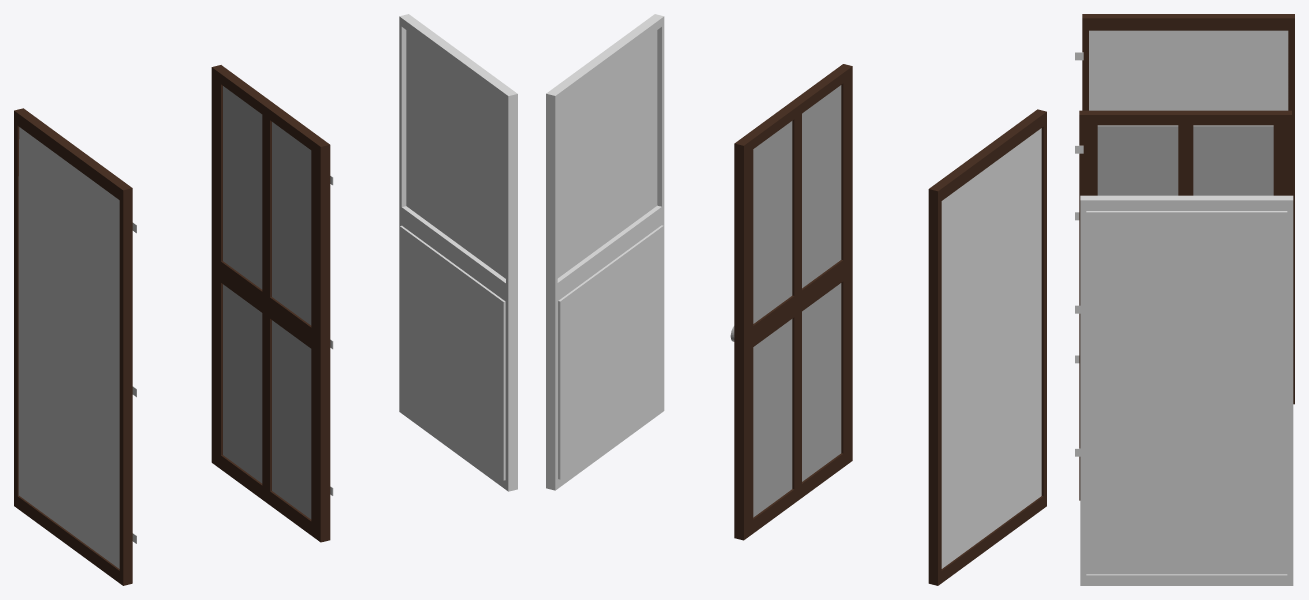
Rendered from doors.fbx.
3 renders of one model, left to right at view 1: azimuth 30°, elevation 25°; view 2: azimuth 150°, elevation 25°; view 3: azimuth 270°, elevation 25°, orthographic. The views are drawn at different scales.
Parts seen in each view (by area): view 1: door1, door2, glass, door3; view 2: door1, door2, glass, door3; view 3: door2, door1, glass, door3.
Boxes of the visible parts, x1=… form: door1: x1=211, y1=65, x2=330, y2=542; door2: x1=399, y1=14, x2=517, y2=491; glass: x1=18, y1=127, x2=119, y2=568; door3: x1=14, y1=108, x2=132, y2=585; door1: x1=730, y1=64, x2=852, y2=540; door2: x1=546, y1=14, x2=664, y2=490; glass: x1=941, y1=128, x2=1041, y2=568; door3: x1=928, y1=109, x2=1046, y2=585; door2: x1=1080, y1=195, x2=1293, y2=585; door1: x1=1079, y1=110, x2=1291, y2=500; glass: x1=1089, y1=30, x2=1288, y2=110; door3: x1=1082, y1=14, x2=1294, y2=404.
Bounding box in the file's own units: 420 × 405 × 207.
